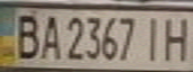2: (63, 12, 84, 61)
3: (81, 12, 103, 61)
6: (100, 14, 121, 62)
7: (115, 14, 142, 62)
A: (36, 11, 63, 61)
B: (9, 9, 42, 61)
H: (160, 14, 193, 62)
I: (139, 14, 169, 62)
